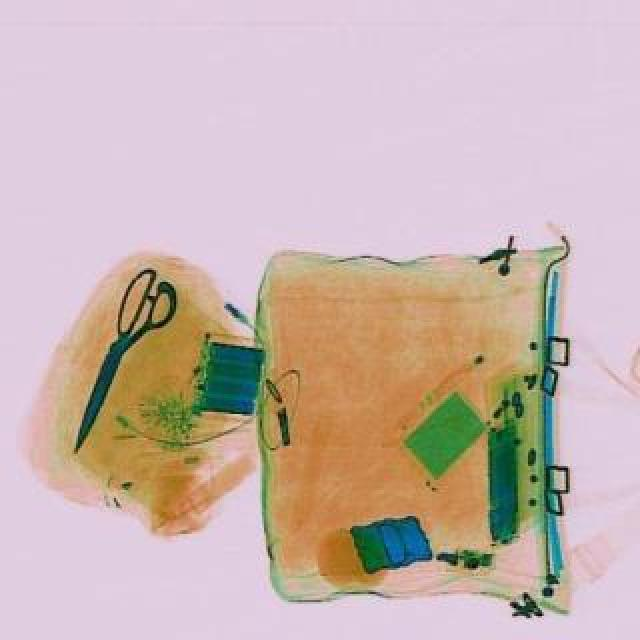pliers: (46, 260, 188, 460)
